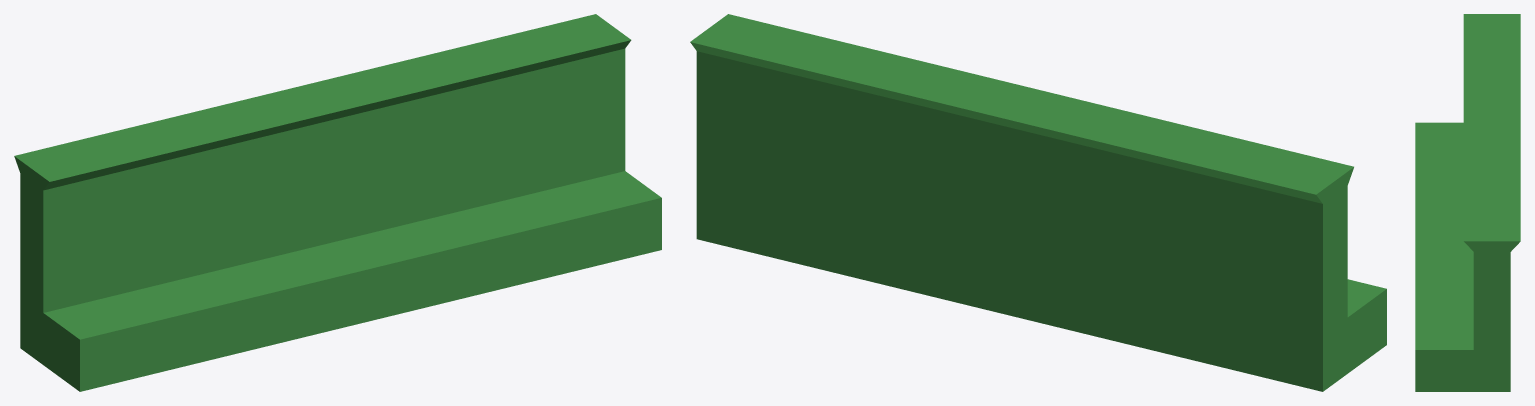
File: NubbinA.obj
3 renders of one model, left to right at view 1: azimuth 30°, elevation 25°; view 2: azimuth 150°, elevation 25°; view 3: azimuth 270°, elevation 25°, orthographic. The views are drawn at different scales.
Visible parts, largest first — view 1: Body1; view 2: Body1; view 3: Body1.
Boxes of the visible parts, x1,y1,x2,y2 form: Body1: [14, 14, 661, 391]; Body1: [690, 14, 1386, 391]; Body1: [1415, 14, 1520, 391].
Size of the model in its own units: 33.9 by 10.46 by 6.64.
